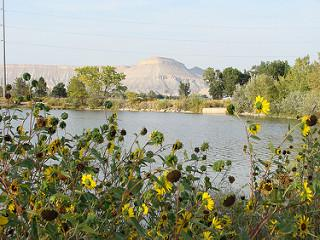sunflower: (254, 95, 270, 118), (301, 112, 317, 133), (297, 216, 309, 236), (82, 174, 96, 191), (201, 192, 215, 209), (211, 218, 225, 235), (303, 183, 313, 205), (262, 182, 274, 194), (121, 205, 134, 216), (247, 124, 261, 133)
